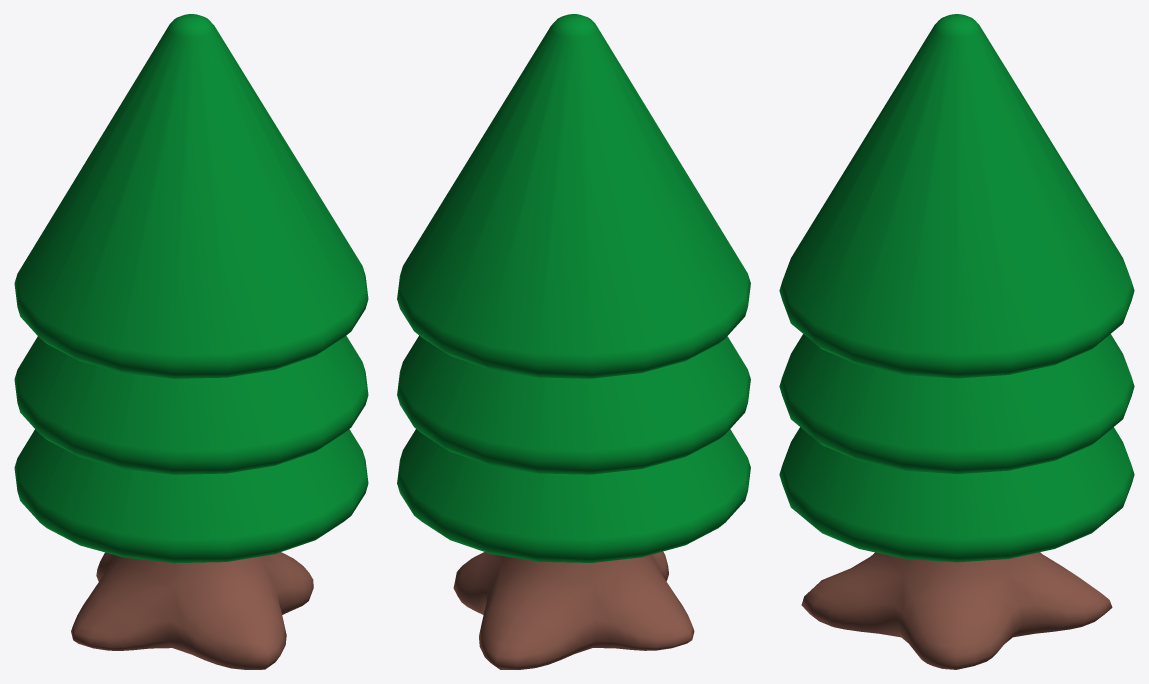
Rendered from Farm_6_Tree_1.glb.
The picture shows the model from 3 angles, left to right: view 1: azimuth 30°, elevation 25°; view 2: azimuth 150°, elevation 25°; view 3: azimuth 270°, elevation 25°; orthographic projection.
Parts seen in each view (by area): view 1: Farm_6_Tree_1; view 2: Farm_6_Tree_1; view 3: Farm_6_Tree_1.
Part boxes in pixels (bbox=[...]): Farm_6_Tree_1: bbox=[14, 14, 368, 669]; Farm_6_Tree_1: bbox=[397, 14, 750, 669]; Farm_6_Tree_1: bbox=[779, 14, 1134, 669].
Bounding box in the file's own units: 1.87 × 3.49 × 1.87.
1 material, 1 textured.
